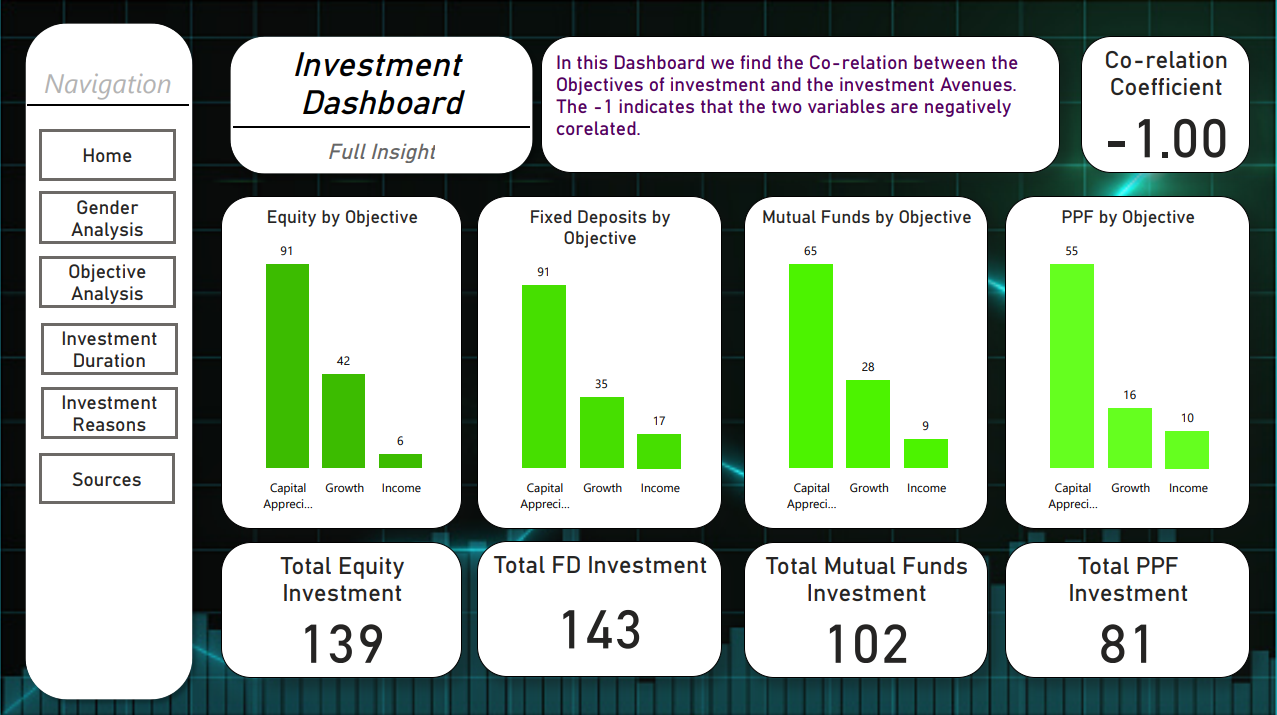

Layout of this report page (visuals, bound fields, positions):
{"tool":"powerbi","page":{"name":"Objective Analysis","canvas":[1280,720],"ordinal":2},"visuals":[{"type":"shape","box":[19.2,16.5,183.9,693],"z":0},{"type":"textbox","box":[28.8,60.4,161.9,46.7],"z":1000},{"type":"shape","box":[28.8,83.7,161.9,43.9],"z":2000},{"type":"shape","box":[223.7,28.8,319.7,153.7],"z":3000},{"type":"textbox","box":[246.6,41.3,272.2,85.5],"z":4000},{"type":"shape","box":[234.6,105.7,297.8,43.9],"z":5000},{"type":"card","title":"Co-relation Coefficient","fields":{"Values":["Measure.Pearsons Correaltion"]},"box":[1083.4,37.4,168.9,136.3],"z":6000},{"type":"columnChart","title":"Equity by Objective ","fields":{"Category":["Data_set 2.Objective"],"Y":["Sum(Data_set 2.Equity_Market)"]},"box":[223.2,196.6,241.3,333],"z":7000},{"type":"actionButton","title":"Home","box":[41.3,129.7,136.8,52.7],"z":8000},{"type":"actionButton","title":"Home","box":[41.3,192.4,136.8,52.7],"z":9000},{"type":"actionButton","title":"Home","box":[41.3,256.6,136.8,52.7],"z":10000},{"type":"actionButton","title":"Home","box":[42.8,323.6,136.8,52.7],"z":11000},{"type":"actionButton","title":"Home","box":[42.8,387.7,136.8,52.7],"z":12000},{"type":"textbox","box":[542.9,37.4,518.8,136.3],"z":13000},{"type":"columnChart","title":"Fixed Deposits by Objective","fields":{"Category":["Data_set 2.Objective"],"Y":["Sum(Data_set 2.Fixed_Deposits)"]},"box":[479,196.6,244.9,333],"z":14000},{"type":"columnChart","title":"Mutual Funds by Objective","fields":{"Category":["Data_set 2.Objective"],"Y":["Sum(Data_set 2.Mutual_Funds)"]},"box":[745.6,196.6,244.9,333],"z":15000},{"type":"columnChart","title":"PPF by Objective","fields":{"Category":["Data_set 2.Objective"],"Y":["Sum(Data_set 2.PPF)"]},"box":[1007.4,196.6,244.9,333],"z":16000},{"type":"card","title":"Total Equity Investment","fields":{"Values":["Sum(Data_set 2.Equity_Market)"]},"box":[223.2,542.9,241.3,136.3],"z":17000},{"type":"card","title":"Total FD Investment","fields":{"Values":["Sum(Data_set 2.Fixed_Deposits)"]},"box":[479,541.7,244.9,136.3],"z":18000},{"type":"card","title":"Total Mutual Funds Investment","fields":{"Values":["Sum(Data_set 2.Mutual_Funds)"]},"box":[745.6,542.9,244.9,136.3],"z":19000},{"type":"card","title":"Total PPF Investment","fields":{"Values":["Sum(Data_set 2.PPF)"]},"box":[1007.4,542.9,244.9,136.3],"z":20000},{"type":"actionButton","title":"Home","box":[41,453.6,136.3,51.9],"z":21000}]}

Visuals, with their boxes in screenshot pixels (x1, y1, x2, y2), scaled from the page's 1280x720 canvas onto the 1277x715 screenshot:
shape: {"x1": 19, "y1": 16, "x2": 203, "y2": 705}
textbox: {"x1": 29, "y1": 60, "x2": 190, "y2": 106}
shape: {"x1": 29, "y1": 83, "x2": 190, "y2": 127}
shape: {"x1": 223, "y1": 29, "x2": 542, "y2": 181}
textbox: {"x1": 246, "y1": 41, "x2": 518, "y2": 126}
shape: {"x1": 234, "y1": 105, "x2": 531, "y2": 149}
"Co-relation Coefficient" card: {"x1": 1081, "y1": 37, "x2": 1249, "y2": 172}
"Equity by Objective " columnChart: {"x1": 223, "y1": 195, "x2": 463, "y2": 526}
"Home" actionButton: {"x1": 41, "y1": 129, "x2": 178, "y2": 181}
"Home" actionButton: {"x1": 41, "y1": 191, "x2": 178, "y2": 243}
"Home" actionButton: {"x1": 41, "y1": 255, "x2": 178, "y2": 307}
"Home" actionButton: {"x1": 43, "y1": 321, "x2": 179, "y2": 374}
"Home" actionButton: {"x1": 43, "y1": 385, "x2": 179, "y2": 437}
textbox: {"x1": 542, "y1": 37, "x2": 1059, "y2": 172}
"Fixed Deposits by Objective" columnChart: {"x1": 478, "y1": 195, "x2": 722, "y2": 526}
"Mutual Funds by Objective" columnChart: {"x1": 744, "y1": 195, "x2": 988, "y2": 526}
"PPF by Objective" columnChart: {"x1": 1005, "y1": 195, "x2": 1249, "y2": 526}
"Total Equity Investment" card: {"x1": 223, "y1": 539, "x2": 463, "y2": 674}
"Total FD Investment" card: {"x1": 478, "y1": 538, "x2": 722, "y2": 673}
"Total Mutual Funds Investment" card: {"x1": 744, "y1": 539, "x2": 988, "y2": 674}
"Total PPF Investment" card: {"x1": 1005, "y1": 539, "x2": 1249, "y2": 674}
"Home" actionButton: {"x1": 41, "y1": 450, "x2": 177, "y2": 502}
